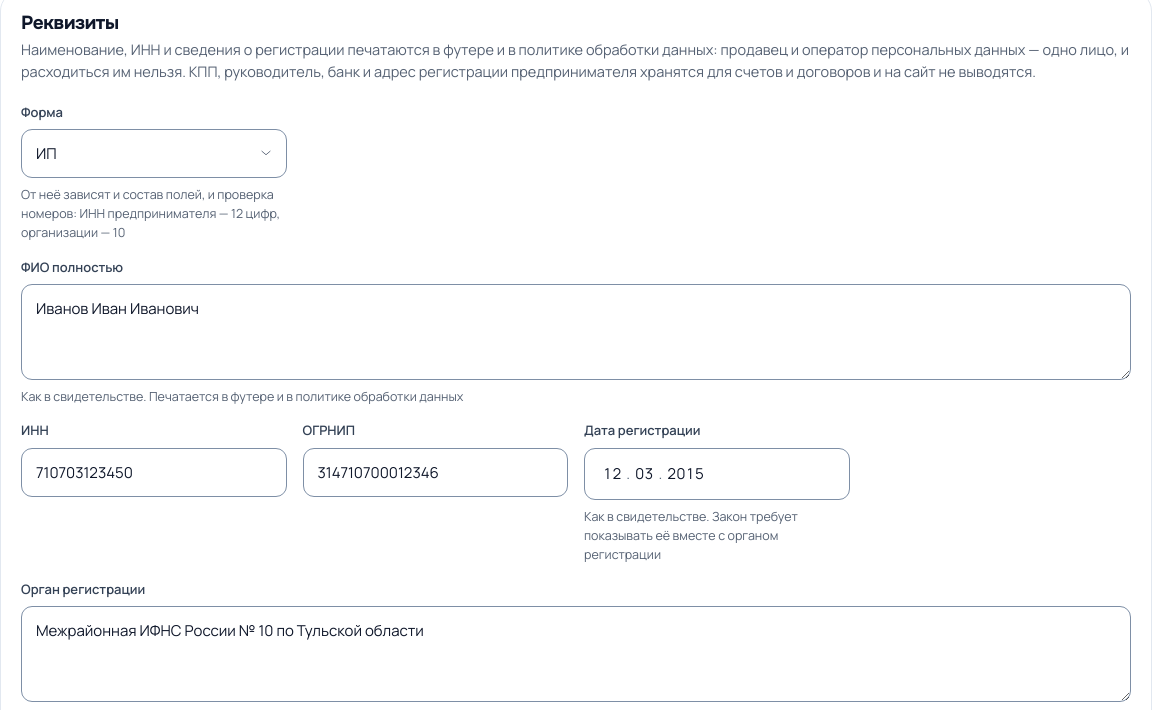
Реквизиты: состав зависит от формы регистрации › 🔴 отказ не меняет ничего: ни переключателя, ни полей
Select "ООО" in the dropdown labelled "Форма" at (154, 153), box [21,129,286,178]
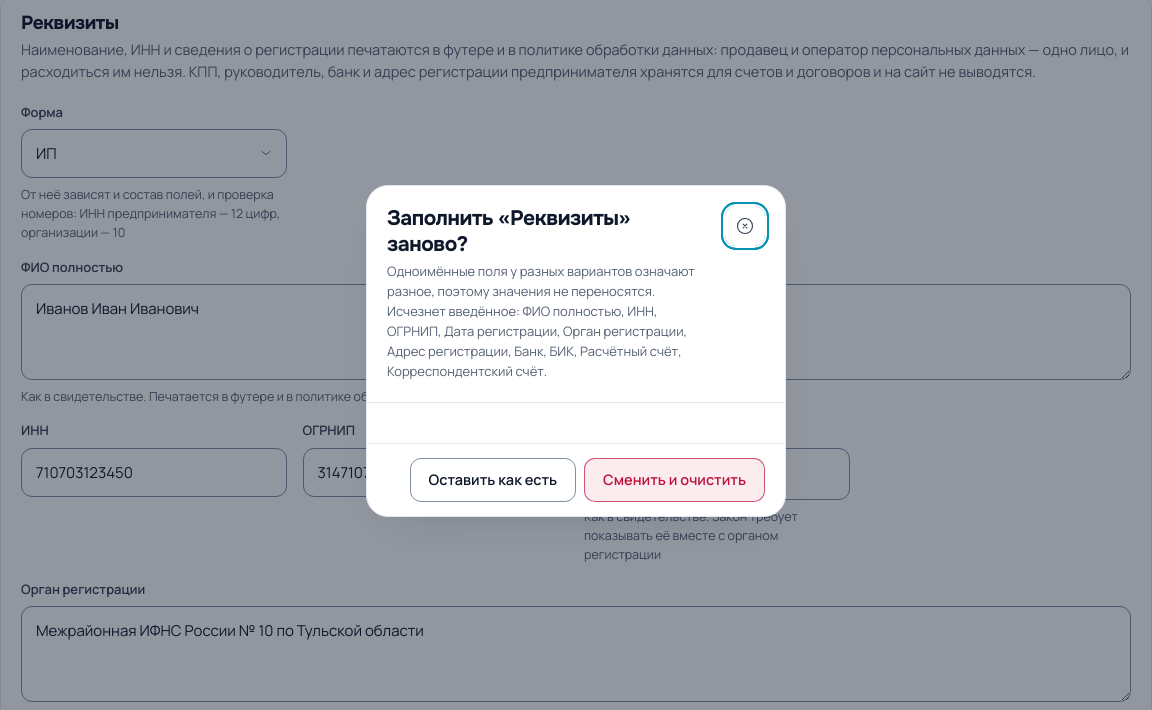
Click the button "Оставить как есть" at (493, 480), box [410,458,576,502]
(page scrolled)
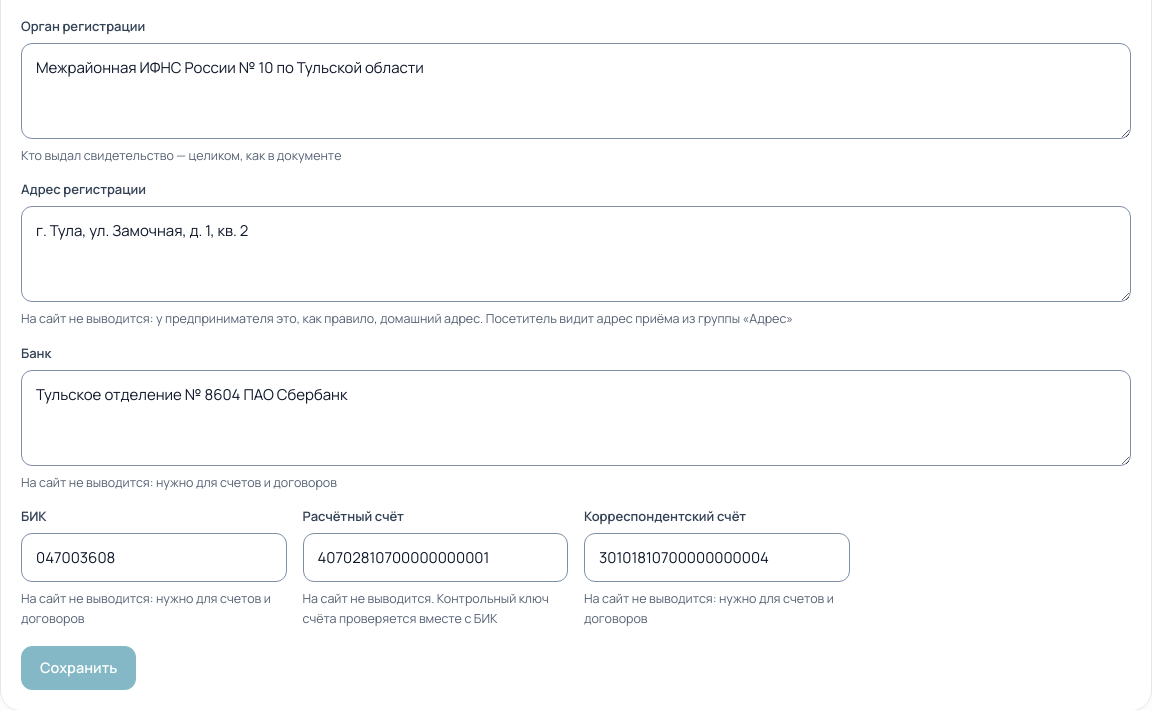
Check: the button "Сохранить" is disabled, box [21,646,136,690]
Check: the dialog is gone
